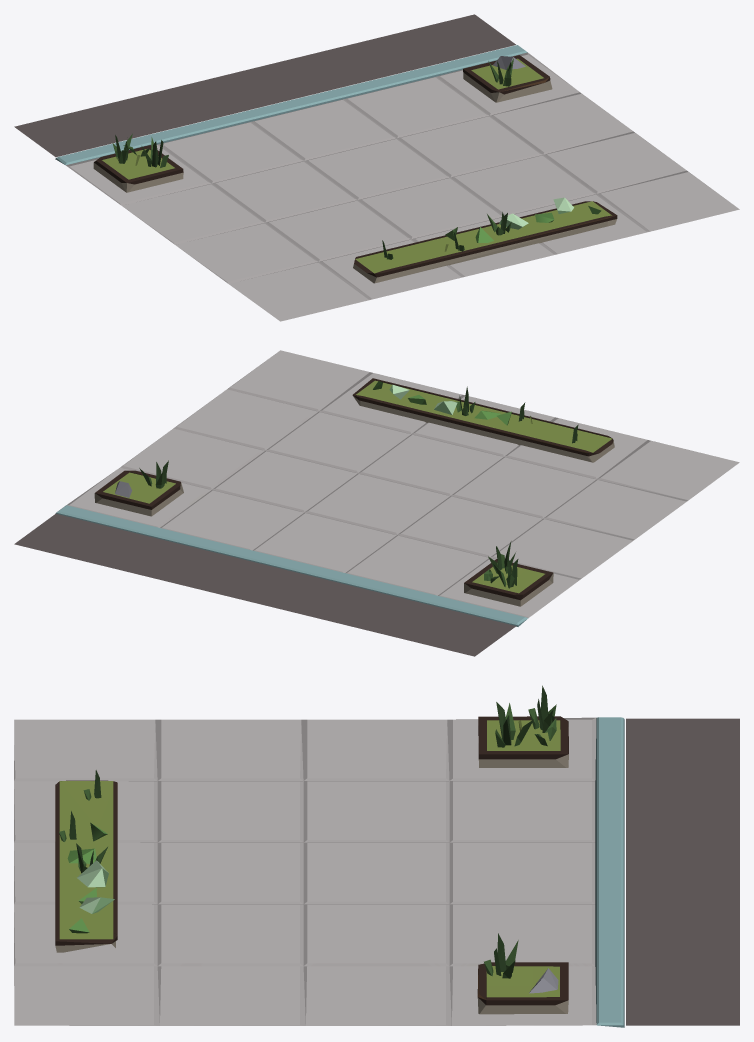
The model's file is QmPCxMB5wGdW51EWEt3g4fR2JpcaJVLuVhGjxJ8UJW4Jh5_lod2.fbx.
3 views of the same model, one above another, from view 1: azimuth 30°, elevation 25°; view 2: azimuth 150°, elevation 25°; view 3: azimuth 270°, elevation 25° (orthographic). The views are drawn at different scales.
Visible parts, largest first — view 1: Entity_513; view 2: Entity_513; view 3: Entity_513.
Boxes of the visible parts, x1=… form: Entity_513: x1=14, y1=14, x2=739, y2=321; Entity_513: x1=14, y1=350, x2=739, y2=656; Entity_513: x1=14, y1=685, x2=739, y2=1027.
Bounding box in the file's own units: 16000 × 1380 × 15918.
1 material, 1 textured.
